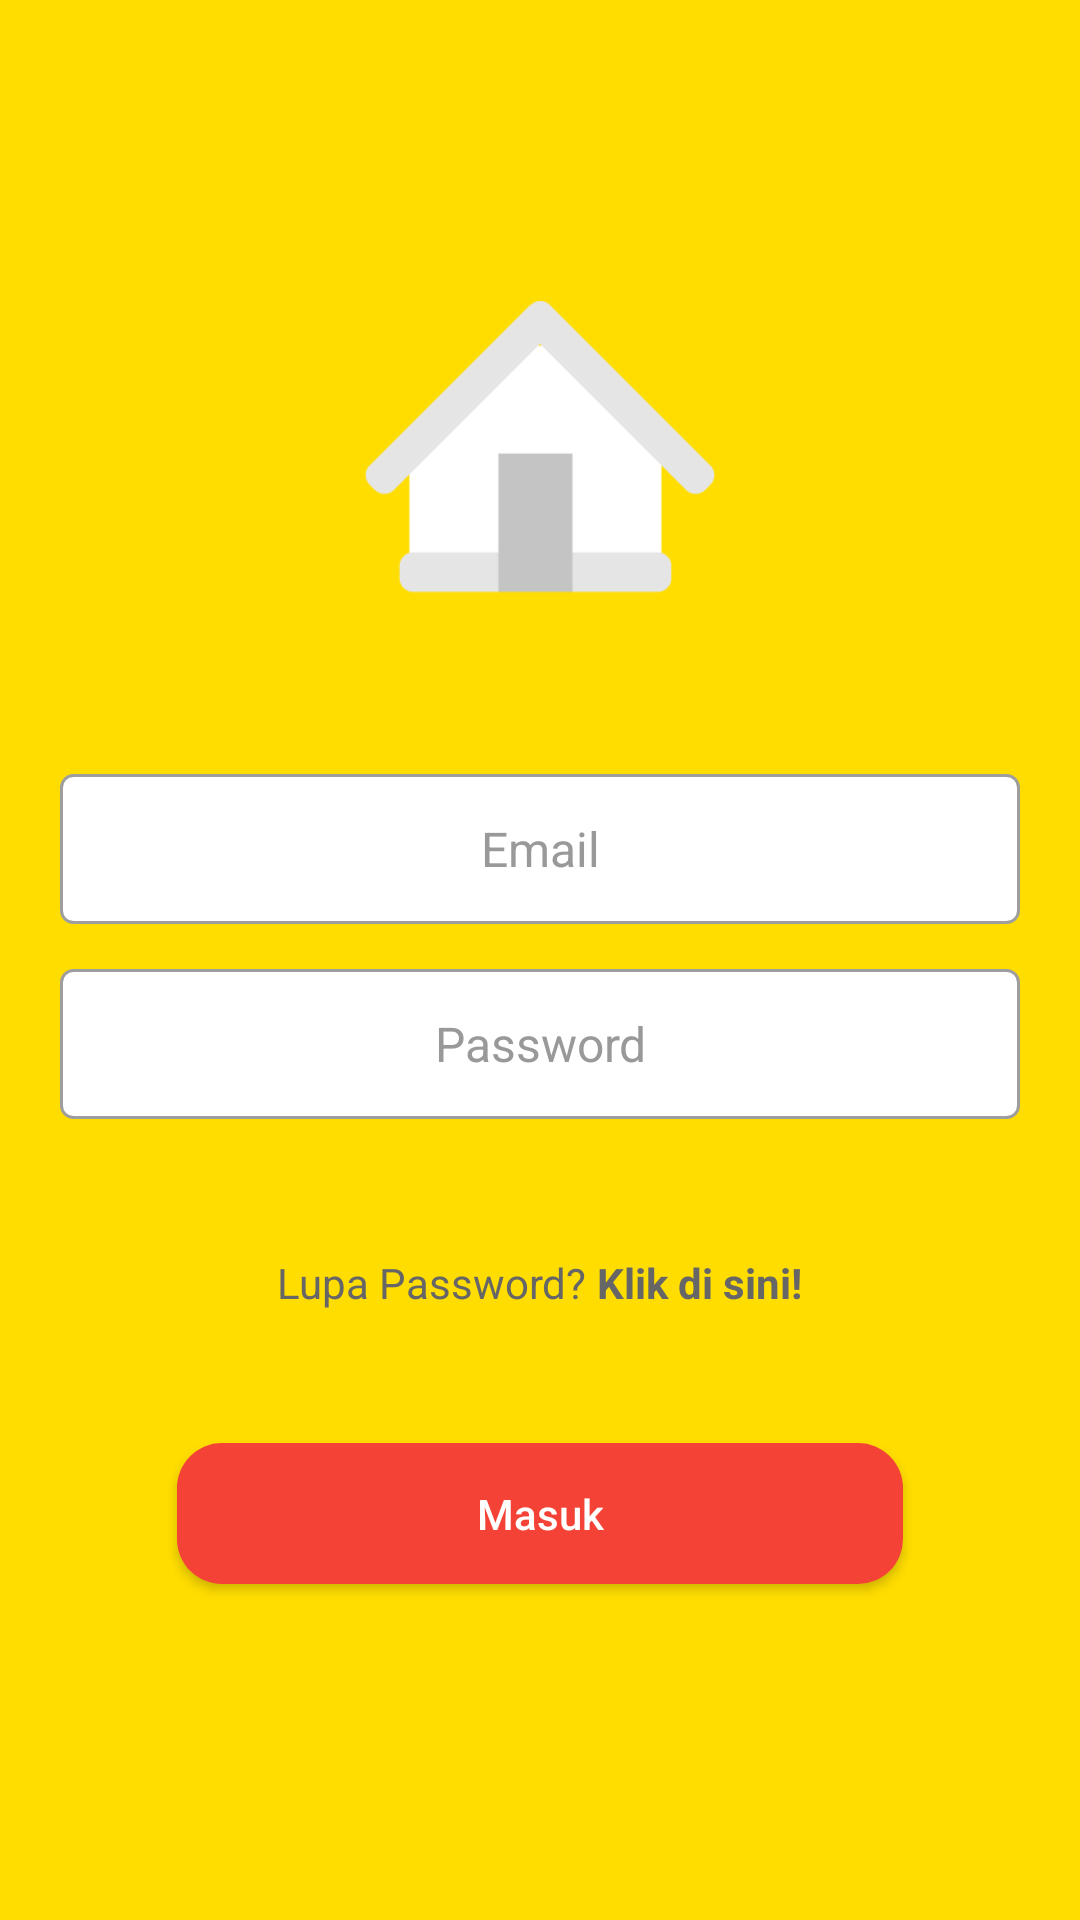

Screen size 1080×1920. Icon name, then its box in pixels as [left=x1, top=y1, right=x2, bottom=y2]:
home: [left=365, top=301, right=715, bottom=593]
